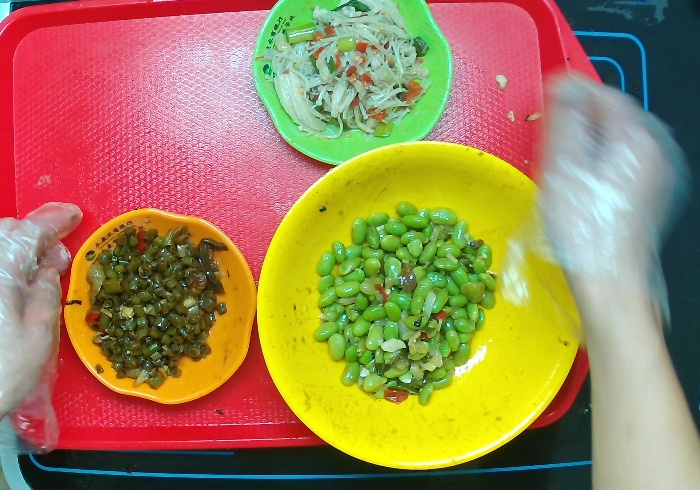YKMZ-Huang_Se_Tang_Wan: (253, 139, 584, 470)
YKMZ-Ju_Se_Ao_Bian_Wan: (62, 206, 259, 407)
YKMZ-Lv_Se_Ao_Bian_Wan: (249, 1, 455, 167)
